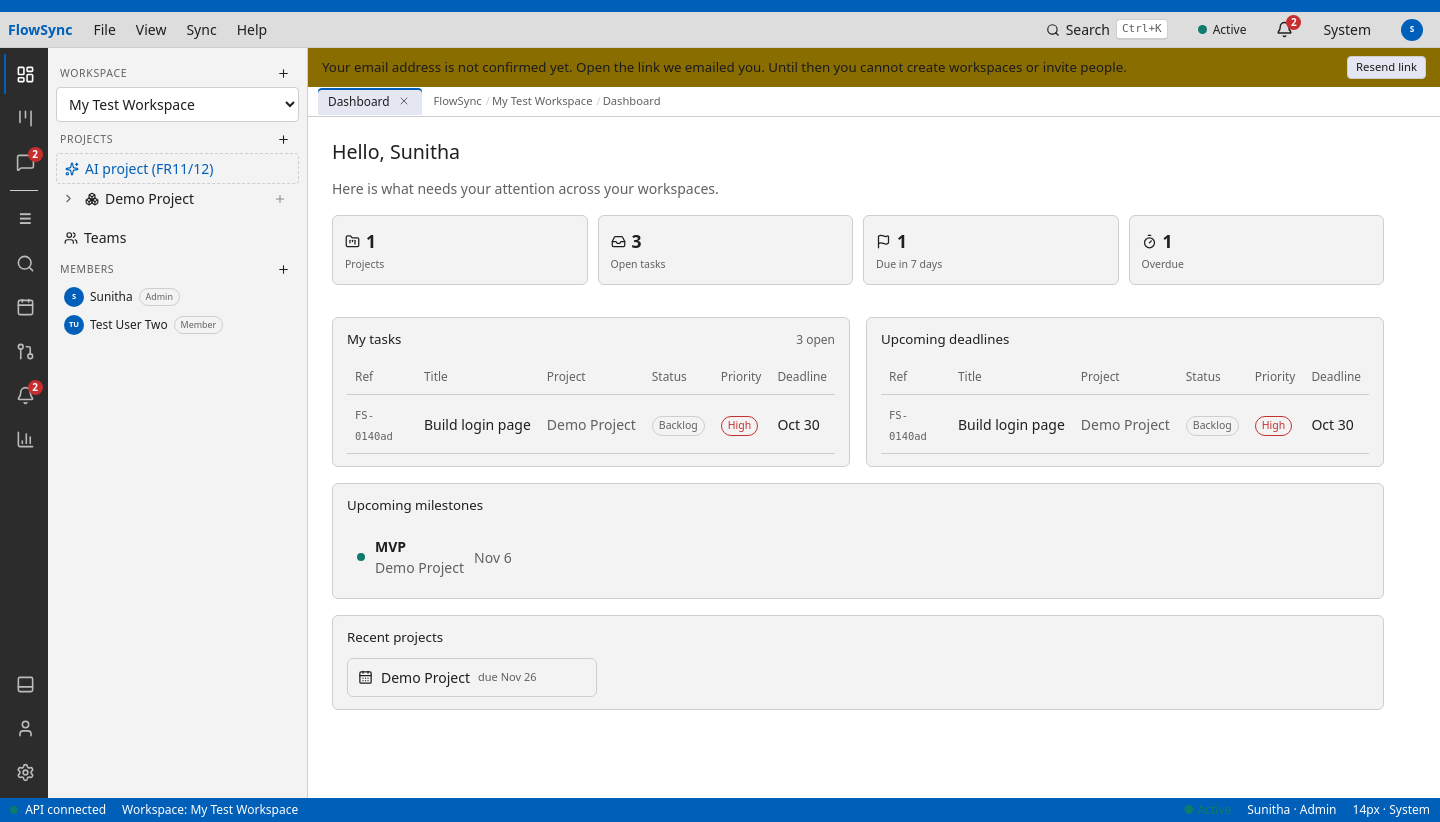
Test: FR1: the "confirm your email" banner › says why when too many emails were requested
This screenshot has width=1440, height=822.
Click the button "Resend link" at (1387, 68), box top-left (1347, 56), bottom-right (1426, 79)
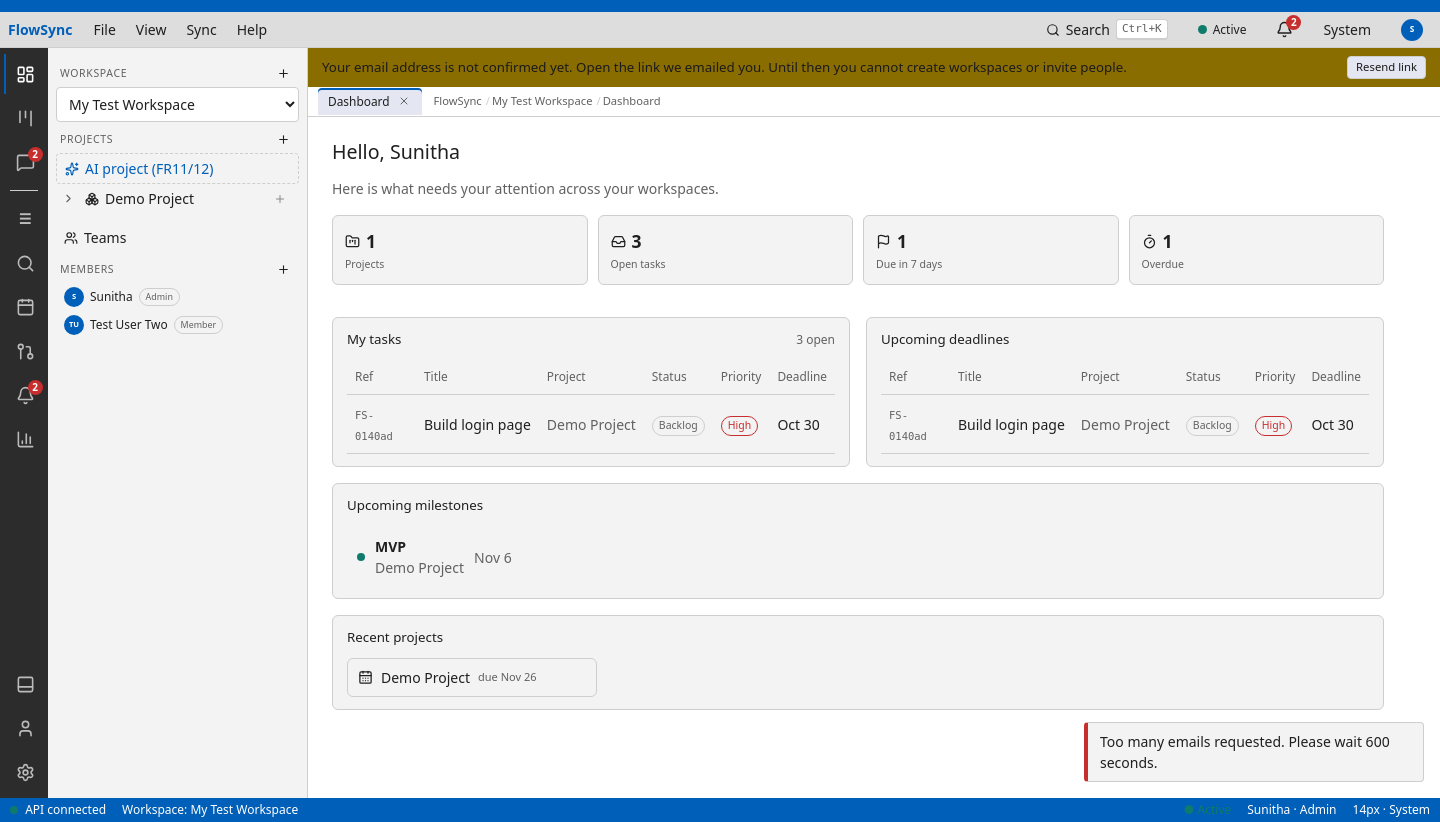
expect the text "Too many emails requested. Please wait 600 seconds." is shown: met, box top-left (1084, 722), bottom-right (1424, 782)
